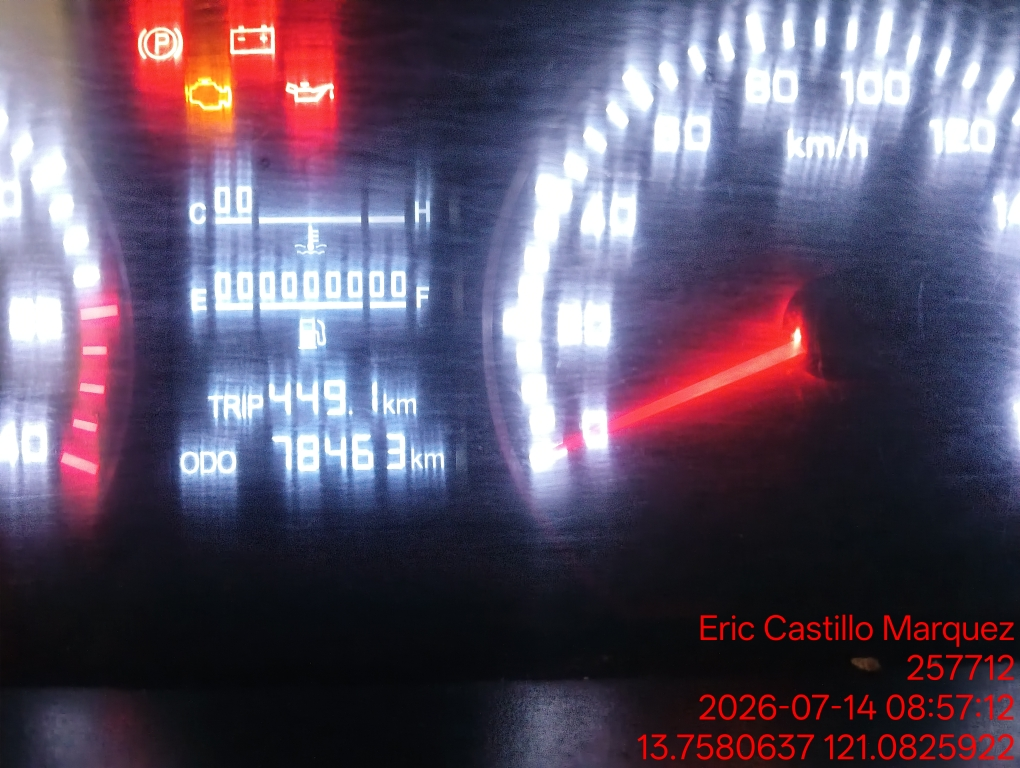grid_pose: (216, 102, 406, 309)
